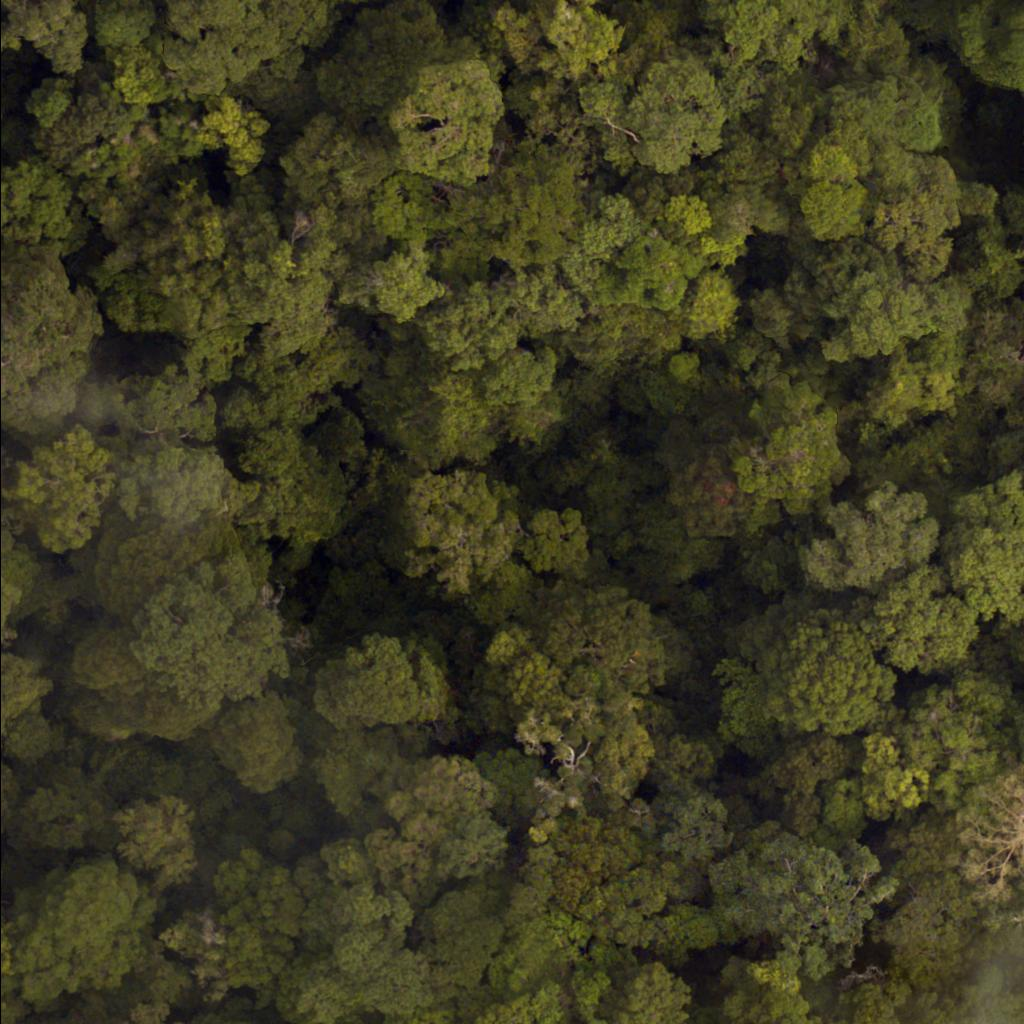crown: (67, 509, 292, 742), (502, 588, 674, 812), (719, 830, 905, 995), (291, 870, 448, 1023), (787, 233, 967, 363), (202, 194, 346, 355), (9, 861, 149, 1017), (96, 175, 224, 331), (824, 55, 962, 198), (393, 463, 527, 604), (766, 604, 904, 732), (203, 841, 316, 997), (440, 157, 577, 284), (385, 44, 504, 183), (800, 481, 943, 595), (13, 413, 119, 558), (93, 366, 220, 480), (318, 631, 445, 739), (887, 825, 975, 979), (723, 373, 852, 474), (155, 0, 286, 91), (377, 368, 505, 461), (874, 159, 964, 280), (208, 698, 305, 800), (425, 880, 511, 992), (110, 791, 199, 886), (354, 173, 446, 254), (345, 246, 443, 321), (41, 68, 124, 153), (594, 235, 695, 304), (864, 350, 958, 424), (568, 308, 668, 376), (734, 965, 848, 1023), (0, 0, 91, 68), (62, 984, 203, 1023), (676, 271, 740, 337), (803, 182, 870, 245), (801, 132, 869, 183), (989, 188, 1023, 278), (27, 80, 74, 119), (0, 908, 13, 997)
